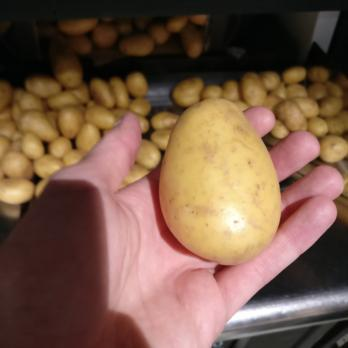Solid potato: (153, 92, 285, 265)
